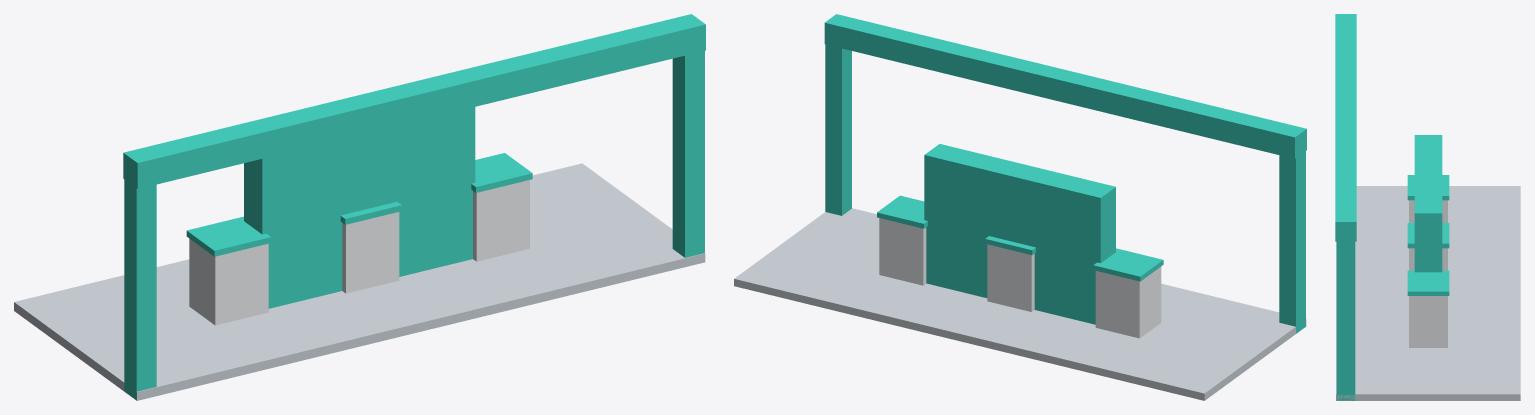
3 renders of one model, left to right at view 1: azimuth 30°, elevation 25°; view 2: azimuth 150°, elevation 25°; view 3: azimuth 270°, elevation 25°, orthographic. The views are drawn at different scales.
Parts seen in each view (by area): view 1: Exhibition Booth Concept; view 2: Exhibition Booth Concept; view 3: Exhibition Booth Concept.
Part boxes in pixels (left/top/right/bottom): Exhibition Booth Concept: left=14, top=14, right=705, bottom=400; Exhibition Booth Concept: left=734, top=14, right=1306, bottom=400; Exhibition Booth Concept: left=1335, top=14, right=1520, bottom=400.
Size of the model in its own units: 8 by 3.2 by 3.01.
